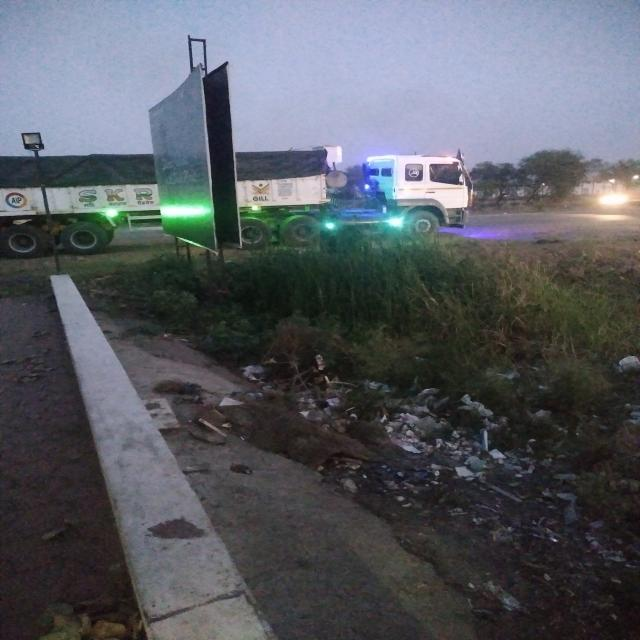Truck: (350, 134, 482, 245)
